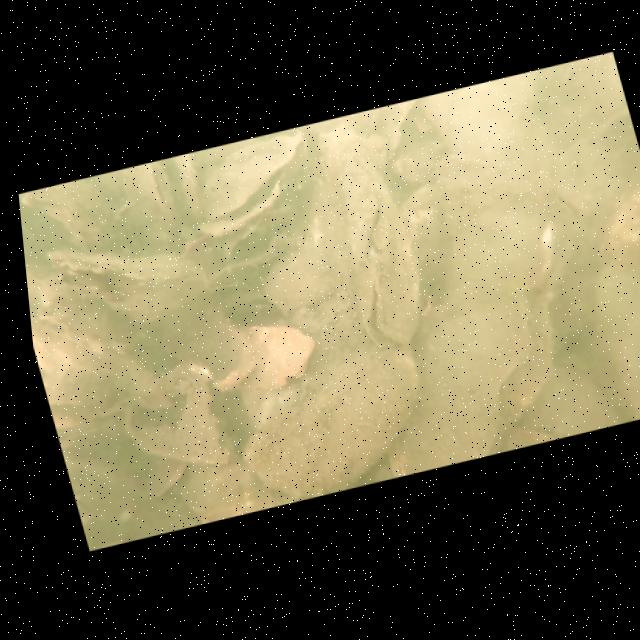Oyster-Closed: (345, 264, 583, 480), (42, 217, 214, 342), (199, 305, 327, 401), (17, 171, 126, 262), (117, 157, 188, 247)
Oyster-Indeterminate: (222, 344, 447, 511), (241, 182, 366, 316), (166, 443, 276, 528)
Oyster-Open: (316, 140, 442, 359), (177, 127, 328, 239), (208, 202, 311, 275)
